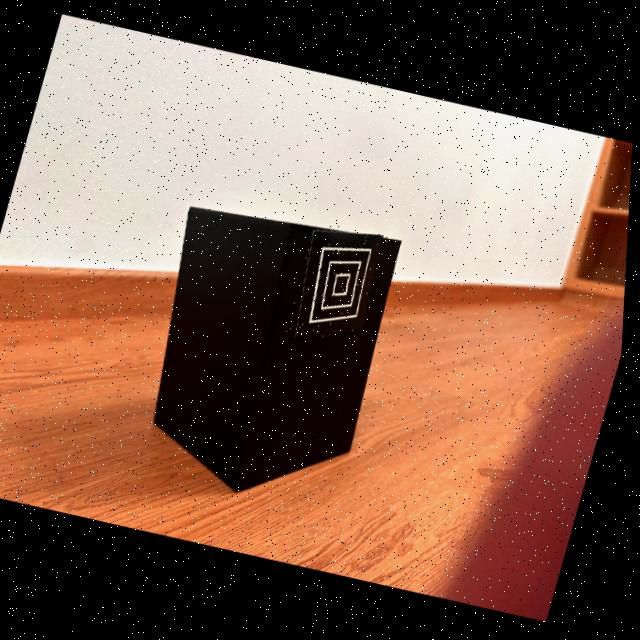BULLSEYE: (299, 231, 387, 342)
